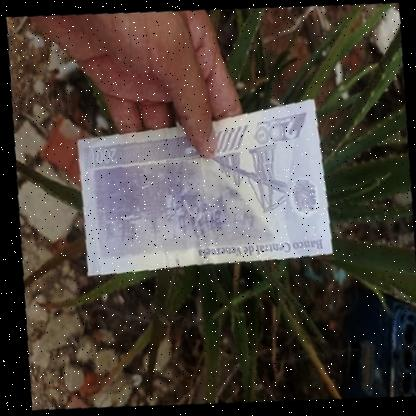two_hundred-back-vef: (66, 99, 334, 277)
